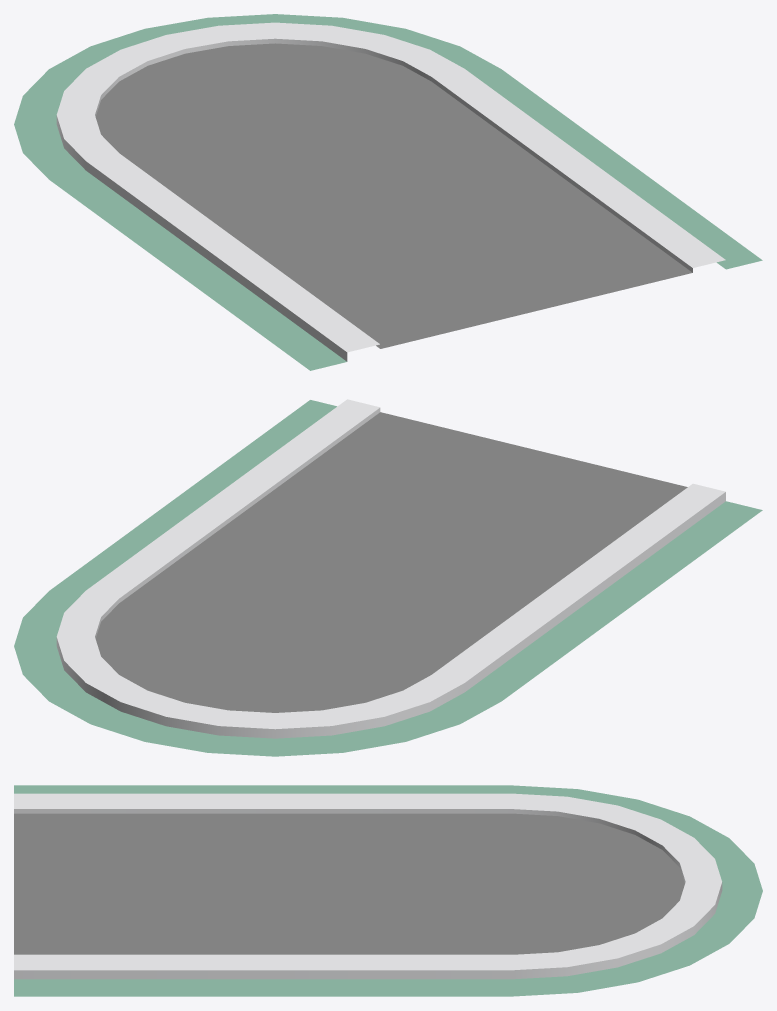
The model's file is roadEnd.glb.
3 renders of one model, top to bottom at view 1: azimuth 30°, elevation 25°; view 2: azimuth 150°, elevation 25°; view 3: azimuth 270°, elevation 25°, orthographic. The views are drawn at different scales.
Parts seen in each view (by area): view 1: roadEnd(Clone); view 2: roadEnd(Clone); view 3: roadEnd(Clone).
Part boxes in pixels (x1=…): roadEnd(Clone): x1=14, y1=14, x2=762, y2=370; roadEnd(Clone): x1=14, y1=399, x2=762, y2=756; roadEnd(Clone): x1=14, y1=785, x2=762, y2=996.
Bounding box in the file's own units: 1 × 0.02 × 1.5.
